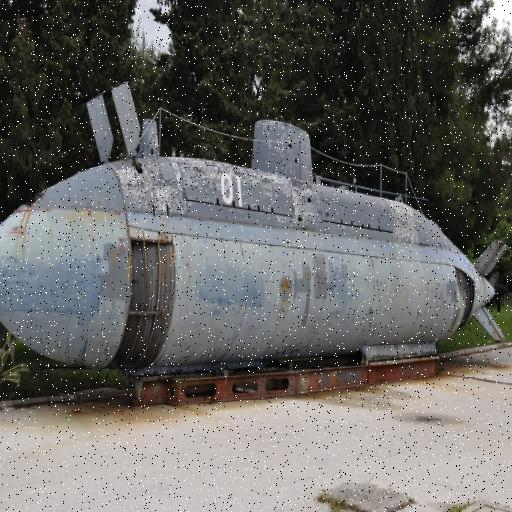submarine: (1, 83, 507, 368)
